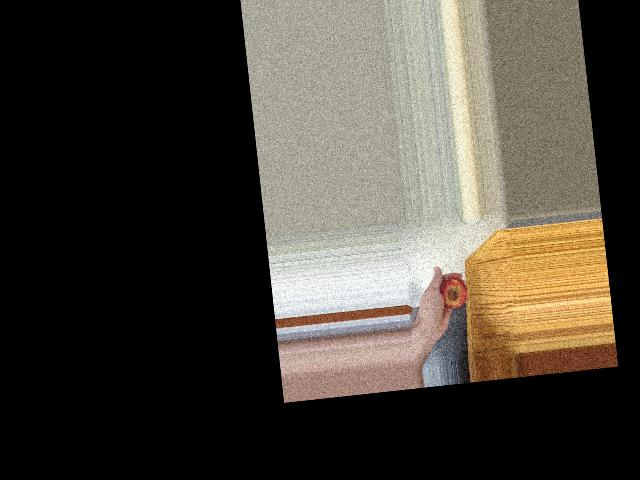apple: (436, 275, 469, 313)
